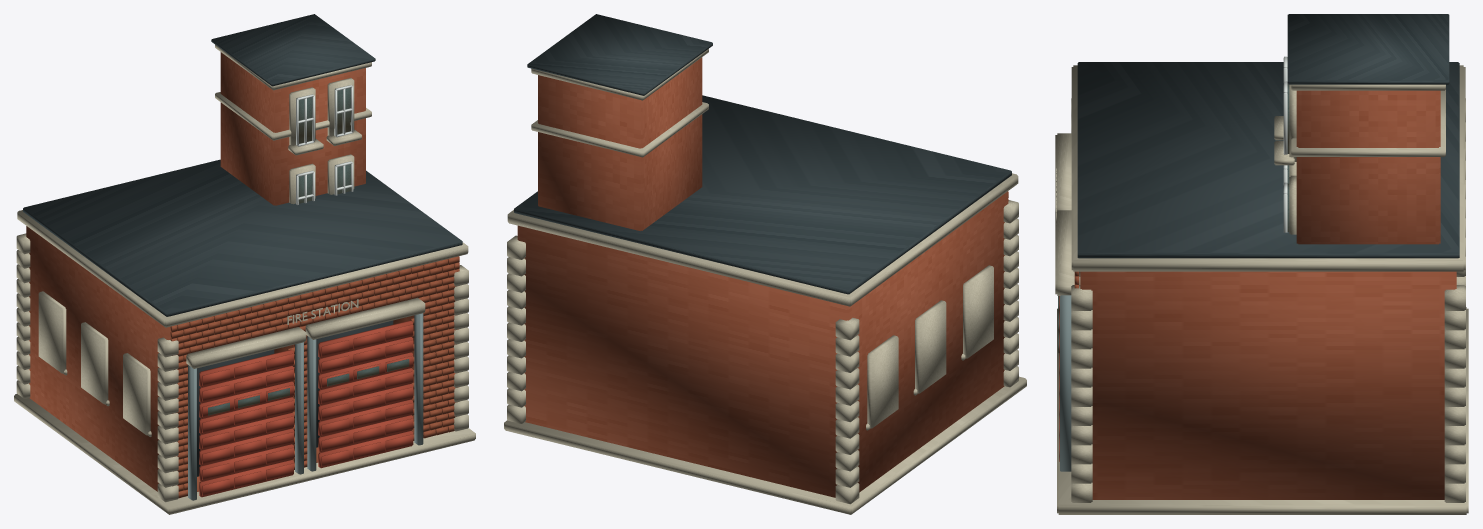
3 views of the same model, side by side, from view 1: azimuth 30°, elevation 25°; view 2: azimuth 150°, elevation 25°; view 3: azimuth 270°, elevation 25° (orthographic). The views are drawn at different scales.
Parts seen in each view (by area): view 1: fire_station__static_warm_brick, fire_station__static_slate, fire_station__static_limestone, fire_station__apparatus_door_02, fire_station__apparatus_door_01, fire_station__static_patinated_metal, fire_station__static_civic_pale_painted_trim, fire_station__static_warm_glazing, fire_station__static_recess_/_shadow_joints, fire_station__apparatus_door_01__segmented_apparatus_door; view 2: fire_station__static_warm_brick, fire_station__static_slate, fire_station__static_limestone; view 3: fire_station__static_warm_brick, fire_station__static_slate, fire_station__static_limestone, fire_station__static_patinated_metal, fire_station__static_civic_pale_painted_trim.
Part boxes in pixels (box(x1,y1,x2,y2)): fire_station__static_warm_brick: box(26, 52, 459, 498); fire_station__static_slate: box(23, 14, 462, 316); fire_station__static_limestone: box(14, 45, 475, 514); fire_station__apparatus_door_02: box(318, 320, 413, 468); fire_station__apparatus_door_01: box(199, 349, 293, 488); fire_station__static_patinated_metal: box(188, 313, 423, 500); fire_station__static_civic_pale_painted_trim: box(296, 85, 353, 204); fire_station__static_warm_glazing: box(296, 87, 350, 203); fire_station__static_recess_/_shadow_joints: box(197, 320, 393, 476); fire_station__apparatus_door_01__segmented_apparatus_door: box(199, 460, 293, 497); fire_station__static_warm_brick: box(517, 57, 1008, 497); fire_station__static_slate: box(514, 14, 1011, 294); fire_station__static_limestone: box(504, 49, 1026, 514); fire_station__static_warm_brick: box(1074, 90, 1456, 499); fire_station__static_slate: box(1077, 14, 1459, 258); fire_station__static_limestone: box(1055, 65, 1468, 514); fire_station__static_patinated_metal: box(1060, 295, 1071, 471); fire_station__static_civic_pale_painted_trim: box(1283, 56, 1287, 232).
Bounding box in the file's own units: 8 × 8 × 7.02.
Materials: 8 (4 with a texture image).
